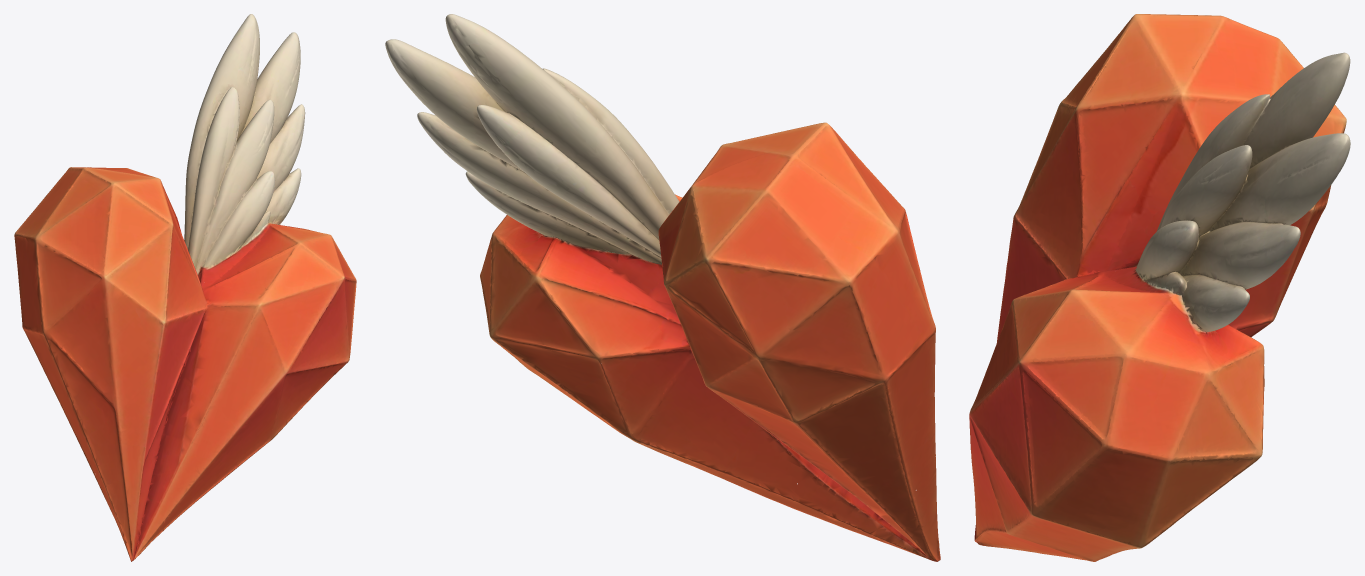
The model's file is cuore.glb.
The picture shows the model from 3 angles, left to right: view 1: azimuth 30°, elevation 25°; view 2: azimuth 150°, elevation 25°; view 3: azimuth 270°, elevation 25°; orthographic projection. The views are drawn at different scales.
Parts seen in each view (by area): view 1: tripo_node_4a7a82b6-0ca1-46aa-8921-8a9faa23a8b5; view 2: tripo_node_4a7a82b6-0ca1-46aa-8921-8a9faa23a8b5; view 3: tripo_node_4a7a82b6-0ca1-46aa-8921-8a9faa23a8b5.
Boxes of the visible parts, x1,y1,x2,y2 form: tripo_node_4a7a82b6-0ca1-46aa-8921-8a9faa23a8b5: (14,14,356,561); tripo_node_4a7a82b6-0ca1-46aa-8921-8a9faa23a8b5: (385,14,940,561); tripo_node_4a7a82b6-0ca1-46aa-8921-8a9faa23a8b5: (969,14,1350,561).
Bounding box in the file's own units: 0.8021 × 0.98 × 0.5005.
Materials: 1 (1 with a texture image).
